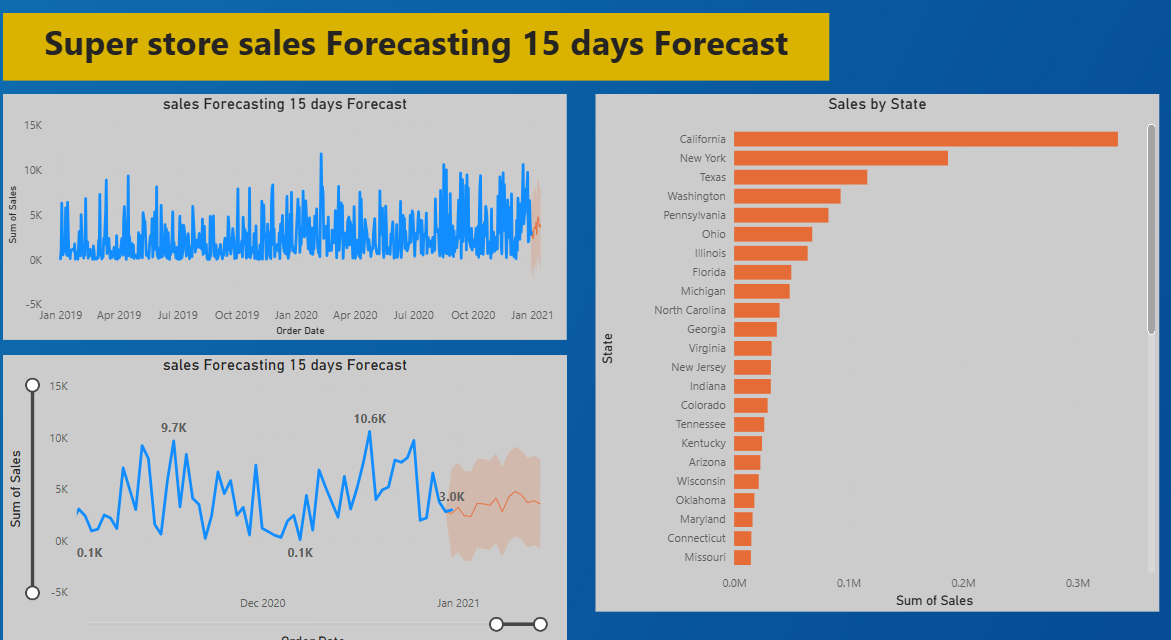

The page's visual inventory and layout, read from the dashboard file:
{"tool":"powerbi","page":{"name":"Super store sales Forecasting","canvas":[1280,720],"ordinal":1},"visuals":[{"type":"lineChart","title":" sales Forecasting 15 days Forecast","fields":{"Y":["Sum(SuperStore_Sales_Dataset (2).Sales)"],"Category":["SuperStore_Sales_Dataset (2).Order Date"]},"box":[9.8,113.9,611.6,266.8],"z":0},{"type":"lineChart","title":"sales Forecasting 15 days Forecast","fields":{"Y":["Sum(SuperStore_Sales_Dataset (2).Sales)"],"Category":["SuperStore_Sales_Dataset (2).Order Date"]},"box":[9.8,396.9,611.6,323.7],"z":1000},{"type":"clusteredBarChart","title":"Sales by State","fields":{"Category":["SuperStore_Sales_Dataset (2).State"],"Y":["Sum(SuperStore_Sales_Dataset (2).Sales)"]},"box":[652.2,113.9,611.6,561.2],"z":2000},{"type":"textbox","box":[9.8,26,896.2,73.2],"z":2001}]}

Visuals, with their boxes in screenshot pixels (x1, y1, x2, y2), scaled from the page's 1280x720 canvas onto the 1171x640 screenshot:
" sales Forecasting 15 days Forecast" lineChart: region(9, 101, 568, 338)
"sales Forecasting 15 days Forecast" lineChart: region(9, 353, 568, 639)
"Sales by State" clusteredBarChart: region(597, 101, 1156, 600)
textbox: region(9, 23, 829, 88)
